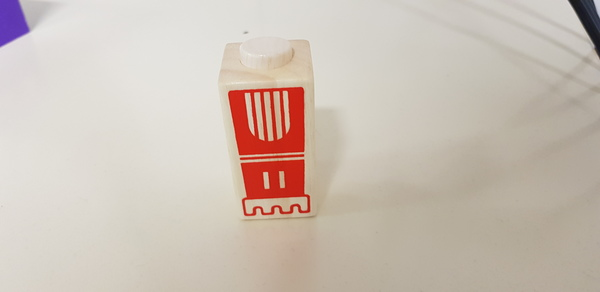tourRouge: (221, 43, 323, 224)
